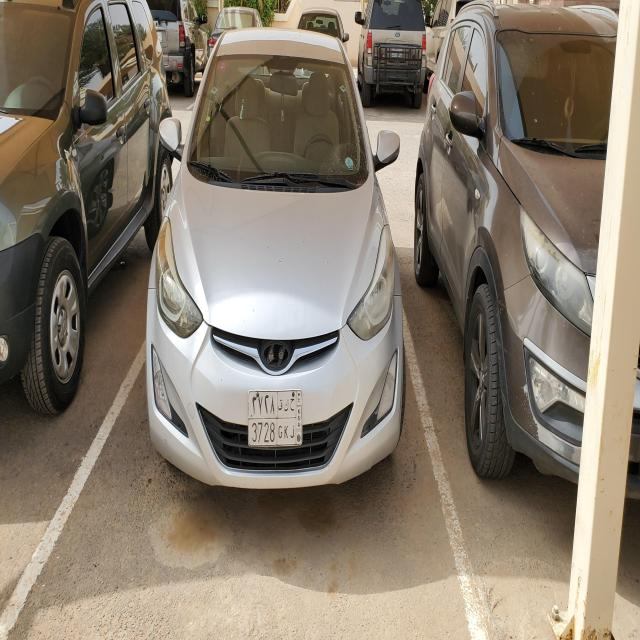license_plate: (248, 388, 302, 448)
